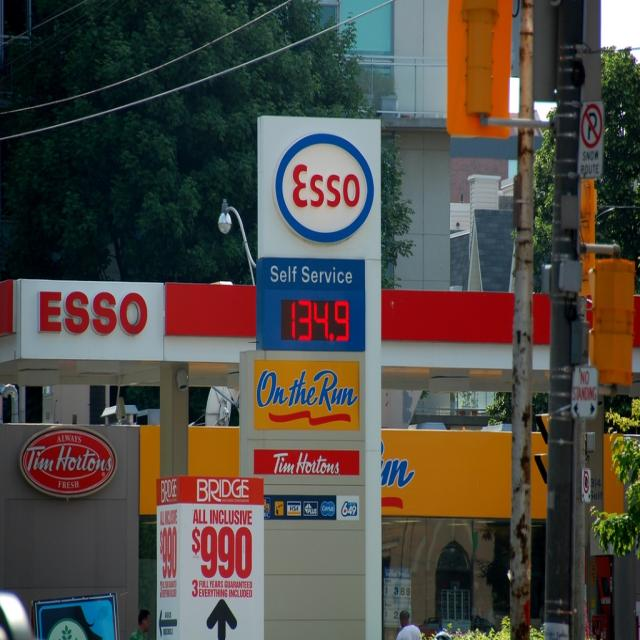esso: (272, 128, 377, 247)
